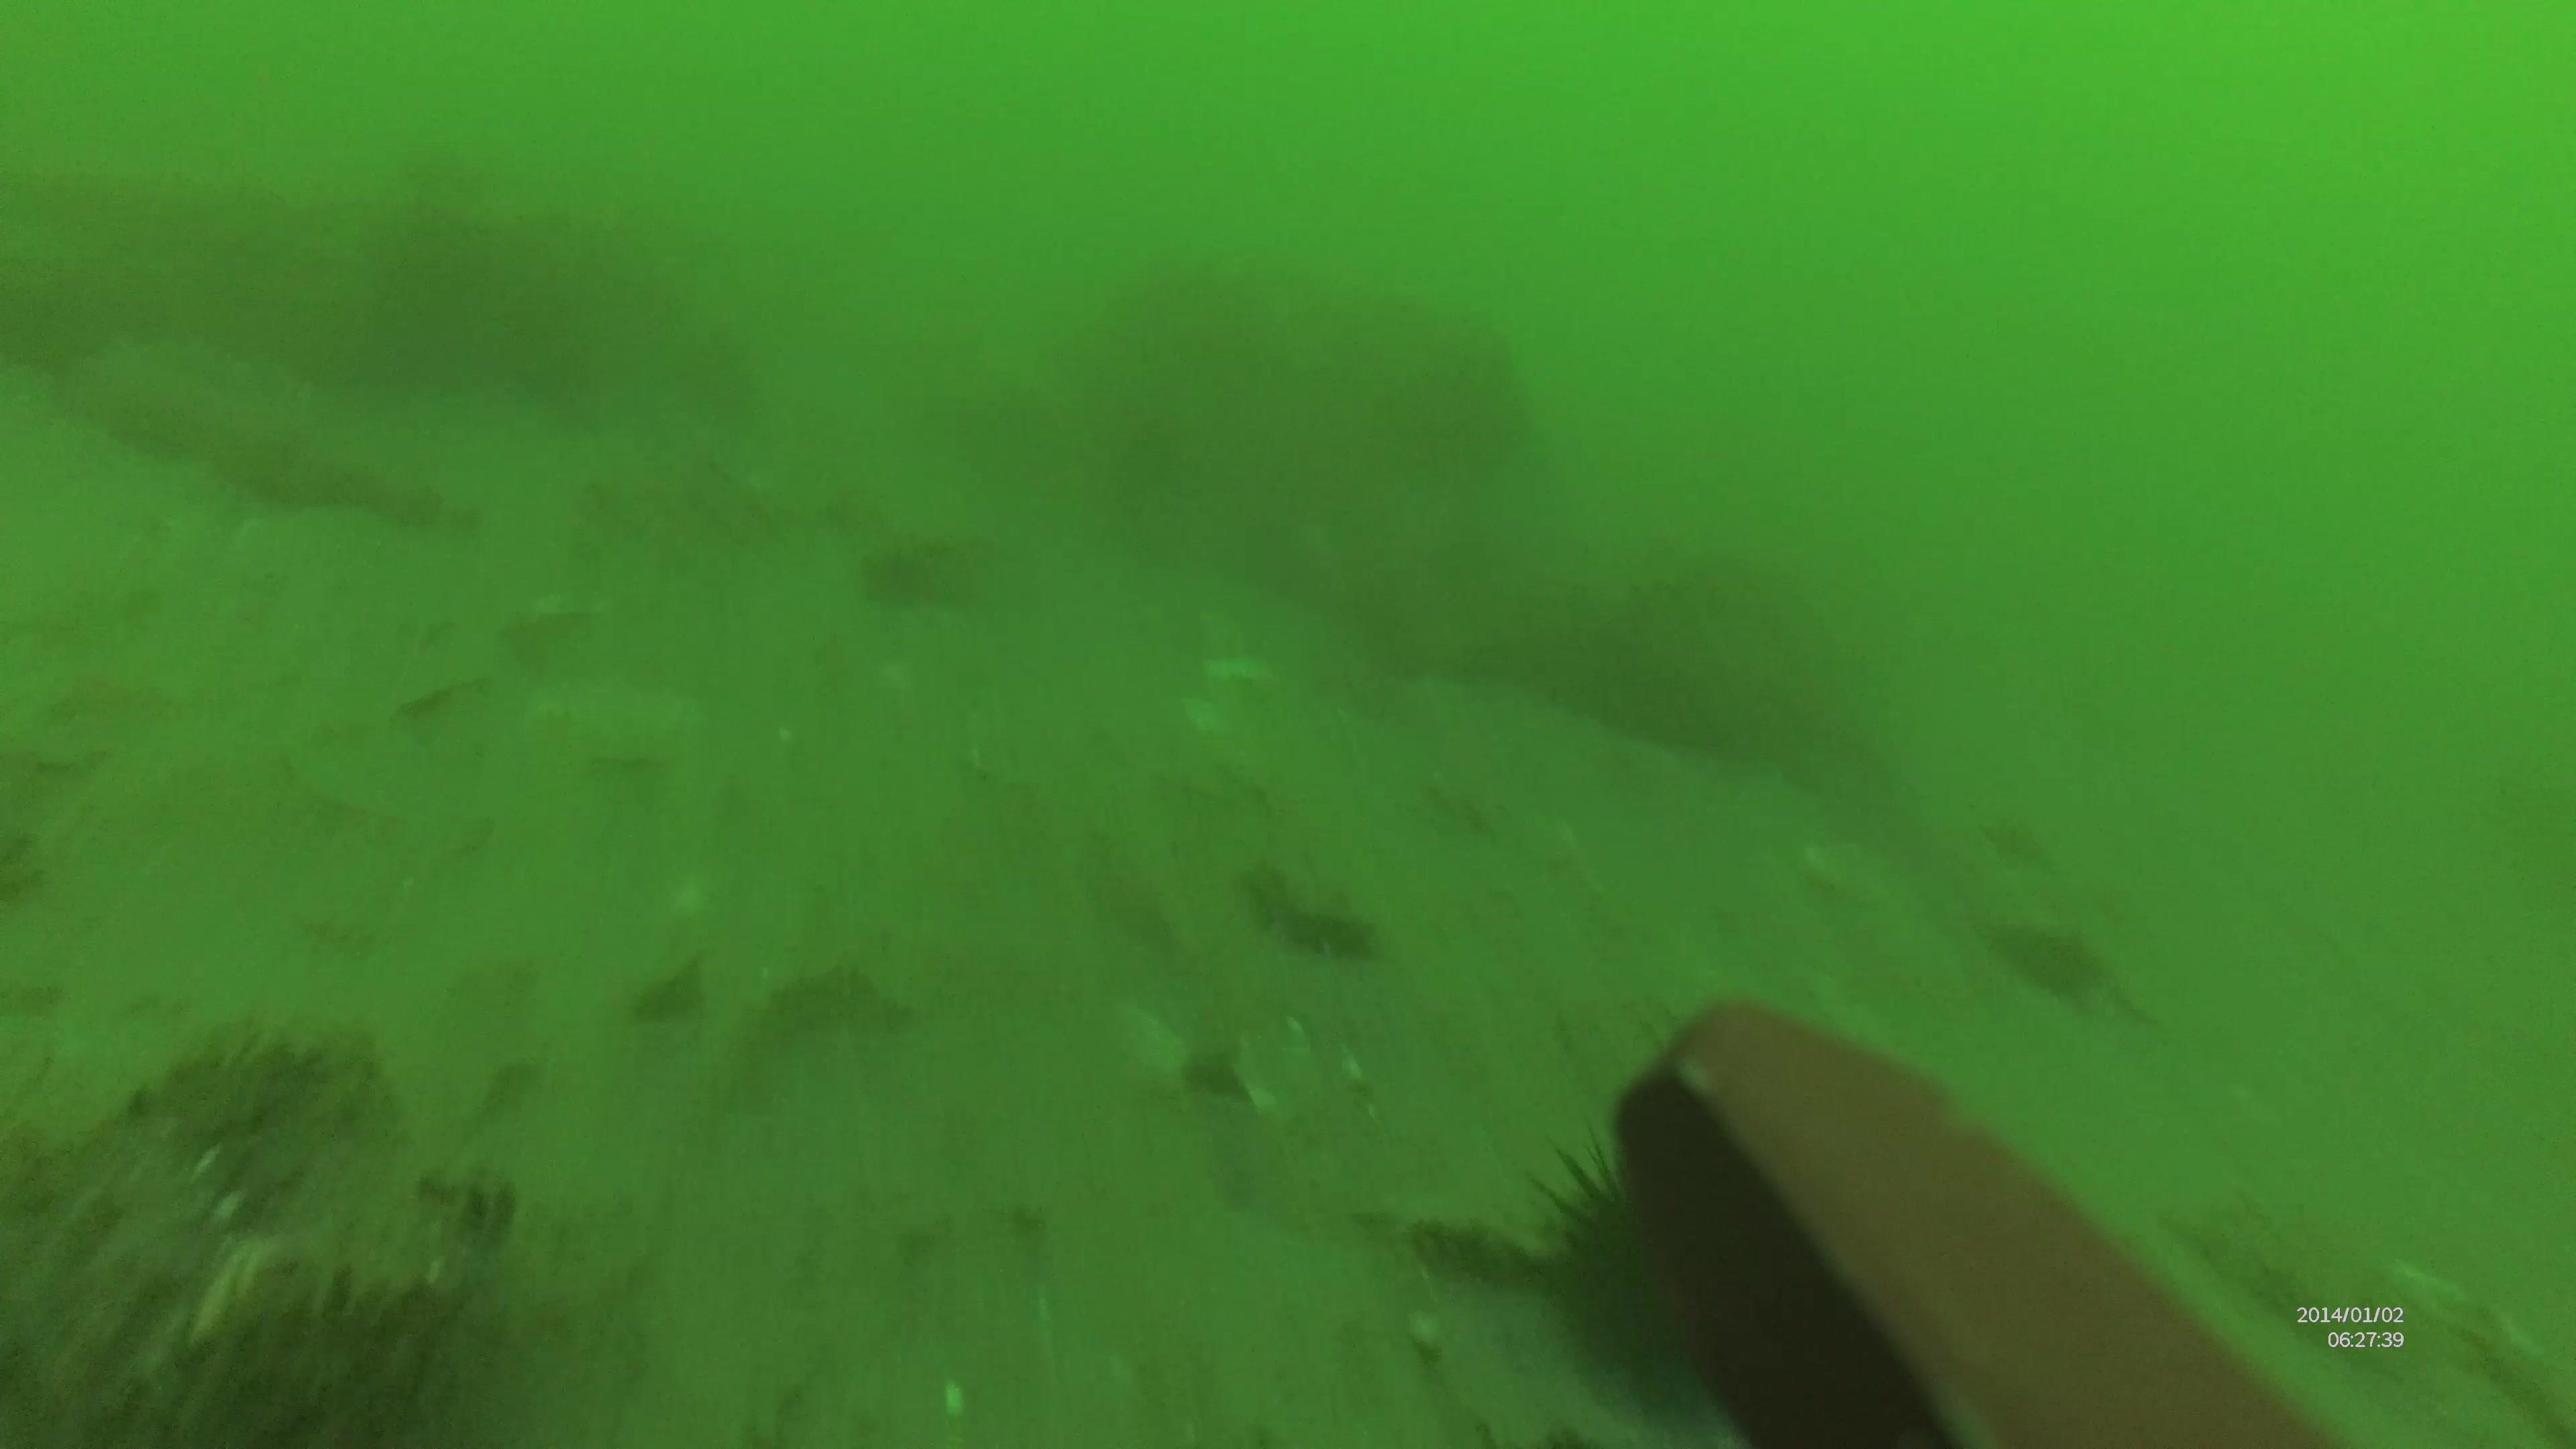echinus: (1523, 1122, 1744, 1394)
